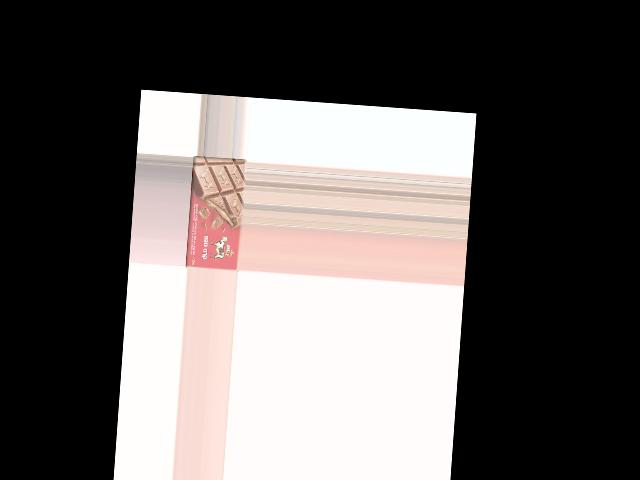chocolate: (186, 157, 247, 272)
